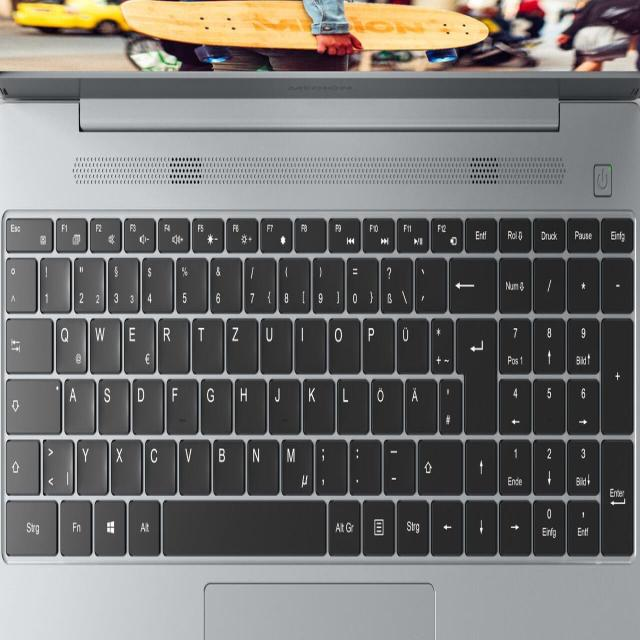0: (344, 252, 377, 311)
1: (37, 252, 69, 310)
2: (71, 252, 103, 310)
3: (105, 251, 138, 310)
4: (140, 251, 171, 309)
5: (173, 252, 205, 310)
6: (208, 252, 240, 310)
7: (242, 252, 274, 311)
8: (276, 252, 308, 311)
9: (311, 252, 343, 311)
a: (62, 372, 93, 431)
accent: (412, 252, 444, 310)
ae: (403, 373, 435, 431)
alt-left: (126, 494, 159, 554)
altgr-right: (326, 494, 359, 554)
b: (210, 433, 243, 492)
c: (142, 433, 174, 492)
caret: (2, 251, 34, 309)
comma: (313, 433, 345, 492)
d: (129, 373, 161, 431)
del: (447, 252, 495, 310)
e: (121, 312, 153, 372)
enter: (454, 312, 495, 432)
f: (164, 373, 196, 431)
g: (198, 373, 229, 431)
h: (232, 373, 263, 431)
hash: (437, 372, 459, 432)
i: (292, 313, 323, 370)
j: (266, 373, 298, 431)
k: (300, 373, 332, 431)
keyboard: (0, 194, 638, 564)
l: (335, 373, 366, 431)
less: (40, 432, 72, 492)
m: (279, 434, 311, 493)
minus: (381, 433, 413, 491)
n: (244, 434, 276, 492)
o: (326, 312, 358, 371)
oe: (368, 373, 400, 431)
p: (360, 312, 392, 371)
plus: (429, 312, 451, 371)
point: (347, 434, 379, 492)
q: (53, 312, 85, 371)
r: (156, 313, 187, 371)
s: (95, 373, 127, 431)
shift-left: (3, 433, 37, 492)
shift-lock: (3, 372, 59, 431)
shift-right: (416, 433, 461, 492)
space: (161, 494, 325, 556)
ss: (378, 252, 410, 310)
strg-left: (2, 494, 56, 554)
strg-right: (394, 494, 428, 554)
t: (190, 313, 221, 370)
tab: (3, 311, 50, 370)
u: (257, 313, 289, 371)
ue: (394, 312, 426, 372)
v: (176, 434, 208, 492)
w: (87, 311, 117, 371)
x: (108, 434, 140, 492)
y: (74, 434, 106, 492)
z: (224, 312, 256, 372)
